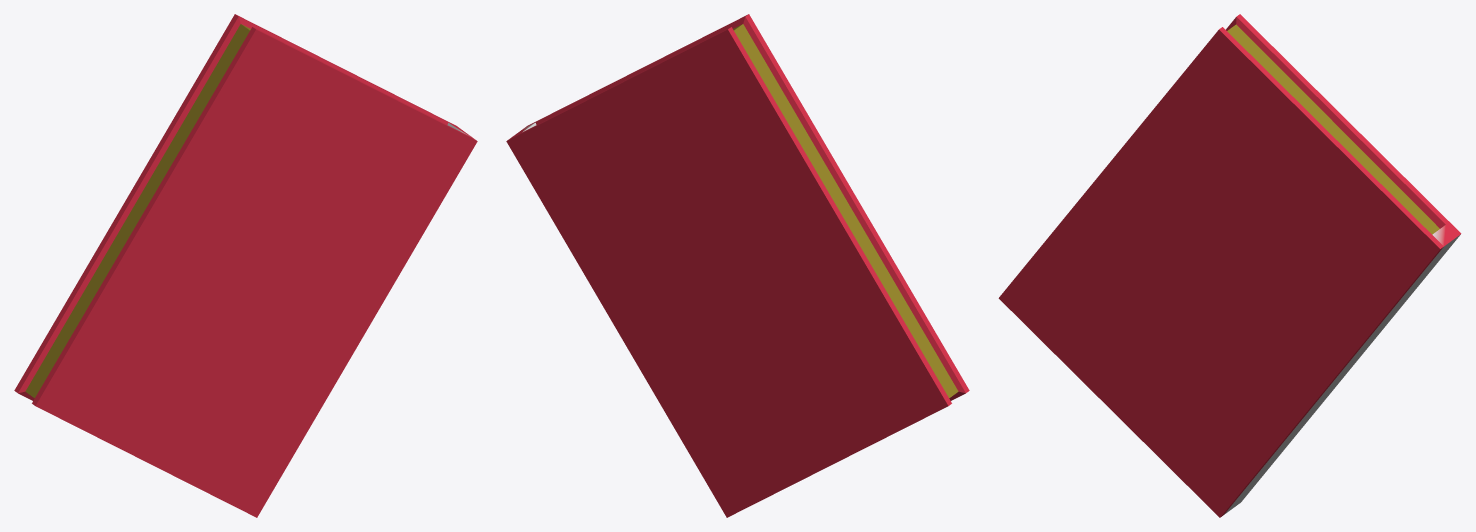
File: PowerUP.fbx
The picture shows the model from 3 angles, left to right: view 1: azimuth 30°, elevation 25°; view 2: azimuth 150°, elevation 25°; view 3: azimuth 330°, elevation 25°; orthographic projection.
Visible parts, largest first — view 1: boock_low; view 2: boock_low; view 3: boock_low.
Part boxes in pixels (bbox=[...]): boock_low: bbox=[14, 14, 477, 517]; boock_low: bbox=[506, 14, 969, 517]; boock_low: bbox=[998, 14, 1461, 517].
Bounding box in the file's own units: 199 × 210 × 16.53.
